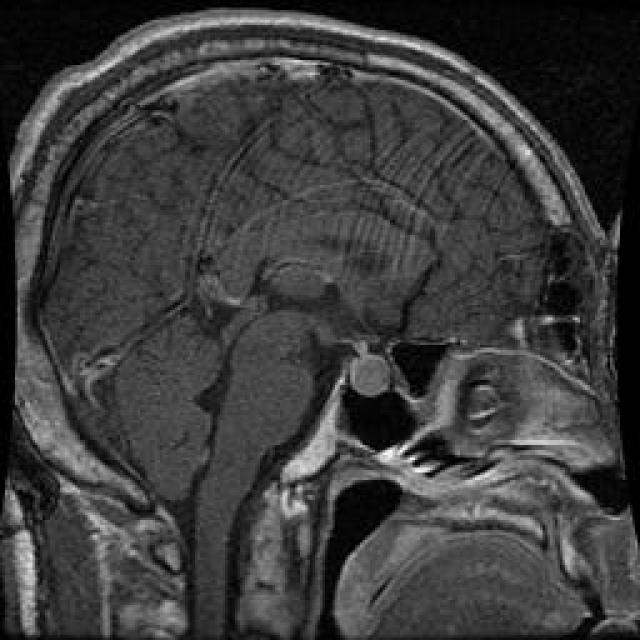pituitary: (342, 341, 404, 406)
